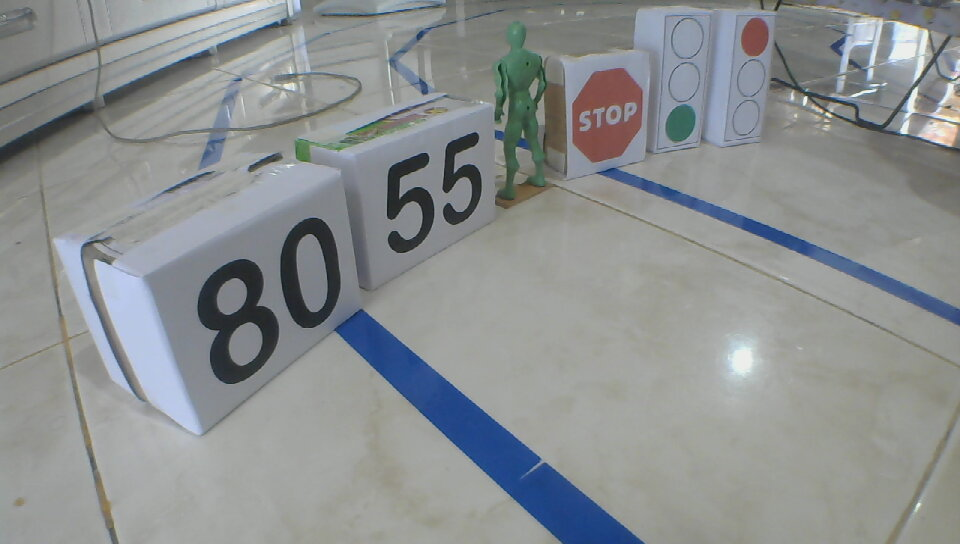Green Light: (663, 16, 700, 146)
Person: (492, 20, 551, 205)
Red Light: (730, 16, 771, 137)
Speed 55: (379, 131, 487, 254)
Speed 80: (192, 215, 344, 390)
Stop: (571, 67, 642, 162)
